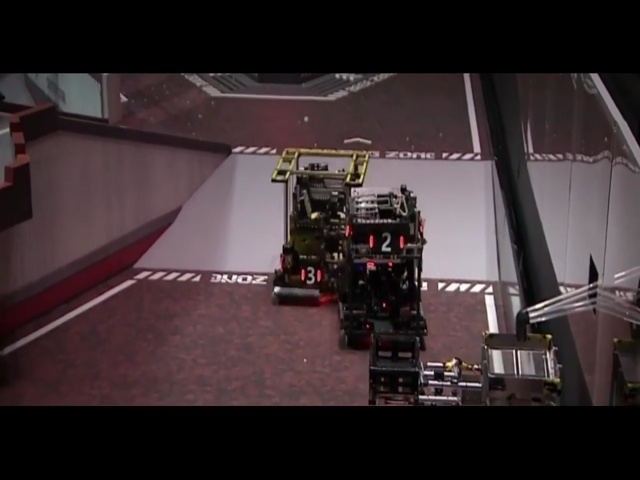bluePlate: (336, 298, 358, 329), (239, 190, 271, 210), (244, 257, 268, 281), (220, 252, 239, 278), (360, 186, 378, 202)
redPlate: (286, 292, 322, 315), (312, 213, 329, 230), (333, 204, 344, 226)
